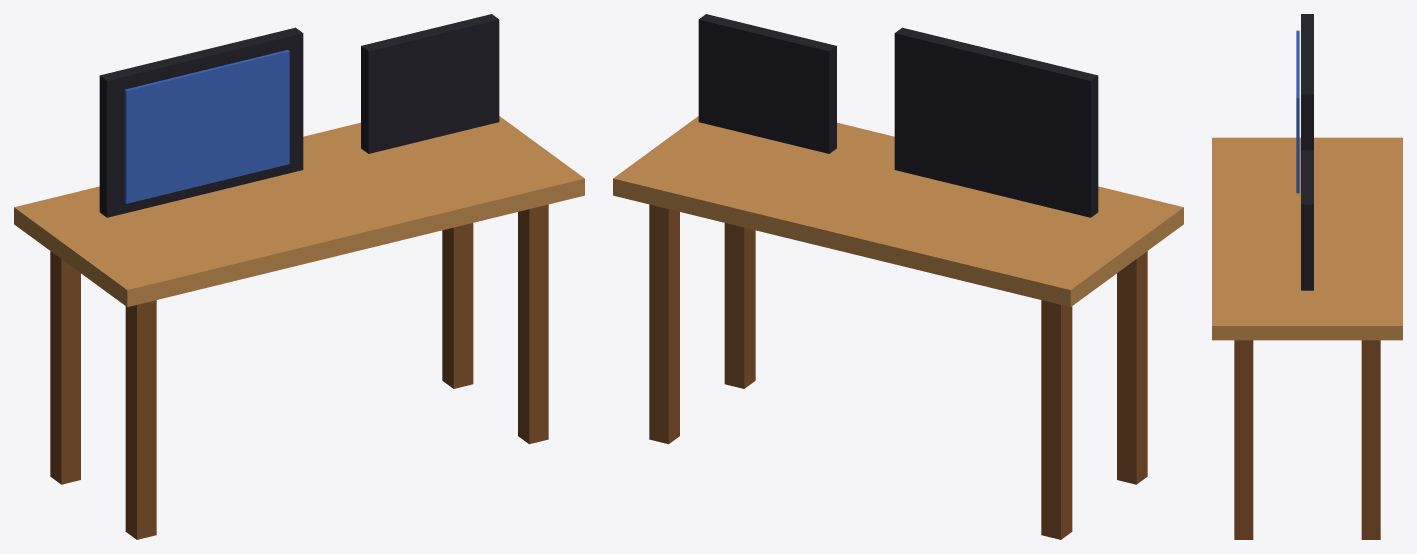
Rendered from monitor_desk.fbx.
3 views of the same model, side by side, from view 1: azimuth 30°, elevation 25°; view 2: azimuth 150°, elevation 25°; view 3: azimuth 270°, elevation 25° (orthographic). The views are drawn at different scales.
Visible parts, largest first — view 1: monitor_desk; view 2: monitor_desk; view 3: monitor_desk.
Part boxes in pixels (x1,y1,x2,y2): monitor_desk: (14, 14, 584, 539); monitor_desk: (613, 14, 1183, 539); monitor_desk: (1212, 14, 1402, 539).
Size of the model in its own units: 1.4 by 1.25 by 0.6.
